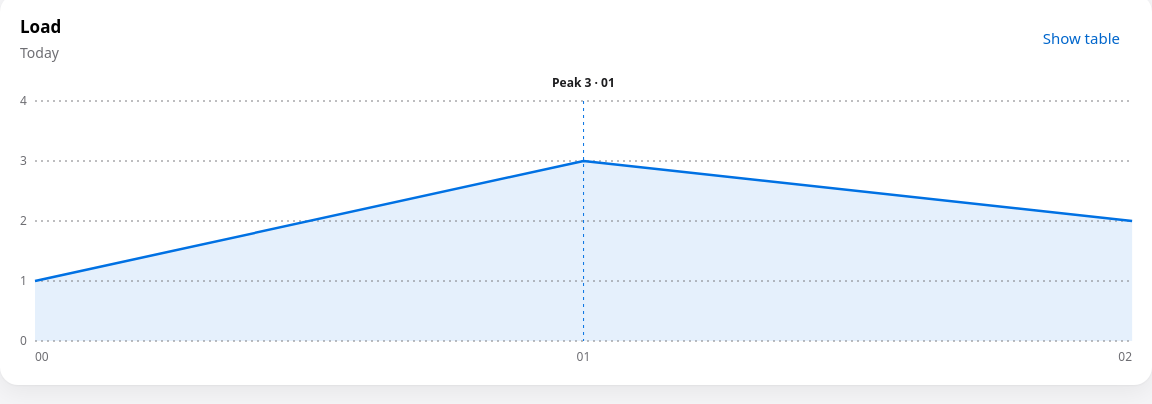
Test case: dashboard shell › draws the chart, puts ticks on the data scale and switches to a table with the peak named
This screenshot has width=1152, height=404.
Step 1. Click the heading "Show table" → (1081, 38), box [1043, 28, 1120, 48]
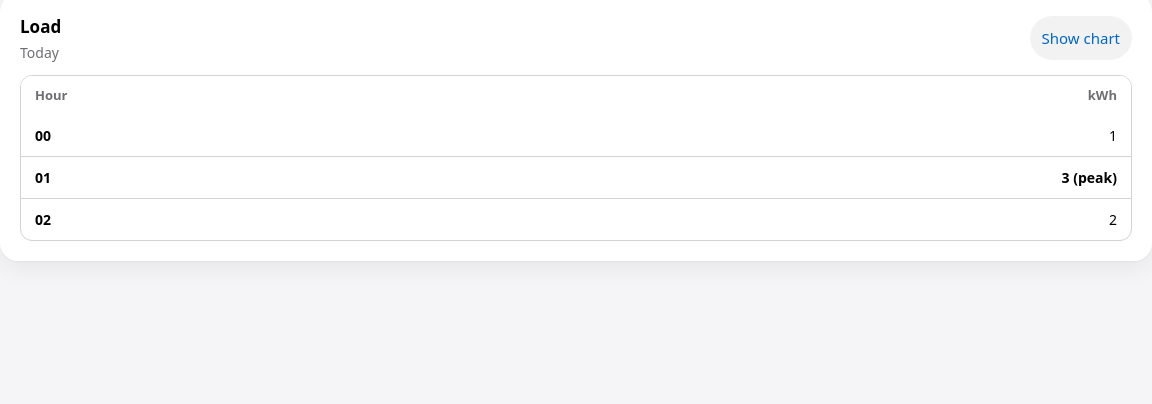
Step 2. Click the heading "Show chart" → (1081, 38), box [1030, 16, 1132, 60]
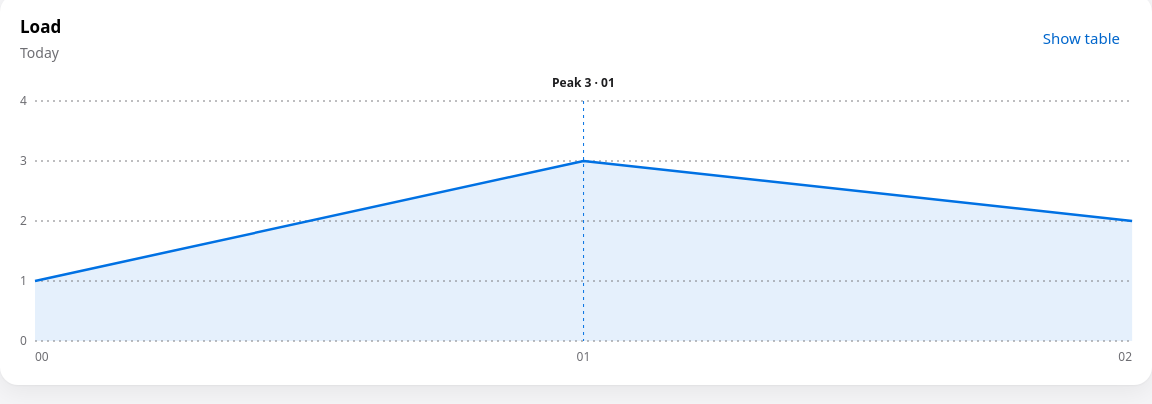
Result: the picture named "Peak 3" is shown at [35, 101, 1132, 341]
